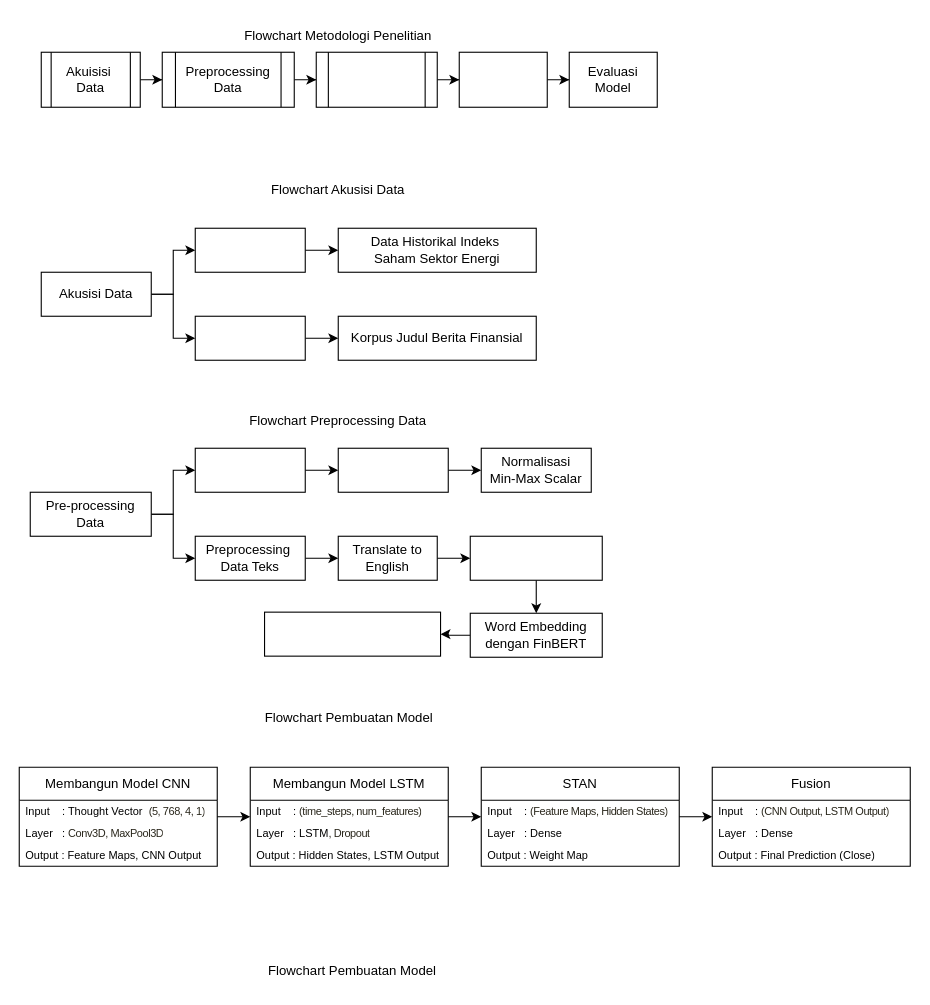
The diagram is 930 pixels wide and 1005 high, and some of its shapes have lost their labels. The shapes that lost their labels are listed below. From the top down, each one's centre as x and y in pixels, then its label:
At [376,79]: "Membangun Model STACN".
At [502,79]: "Pelatihan Model".
At [249,249]: "Data Numerik".
At [249,337]: "Data Teks".
At [249,469]: "Preprocessing Data Numerik".
At [392,469]: "Standarisasi Tipe Data".
At [535,557]: "Fine-Tuning Model FinBERT".
At [352,633]: "Sequence to Sequence Autoencoder".
